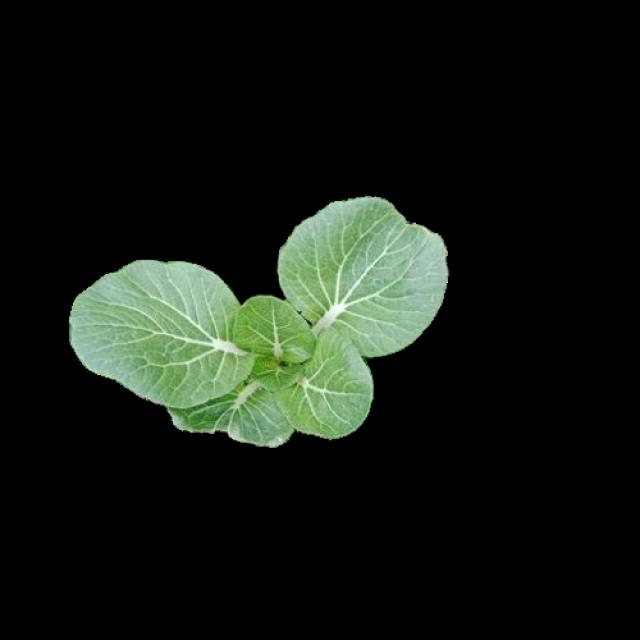healthy: (68, 193, 447, 444)
not-mature: (70, 196, 450, 447)
